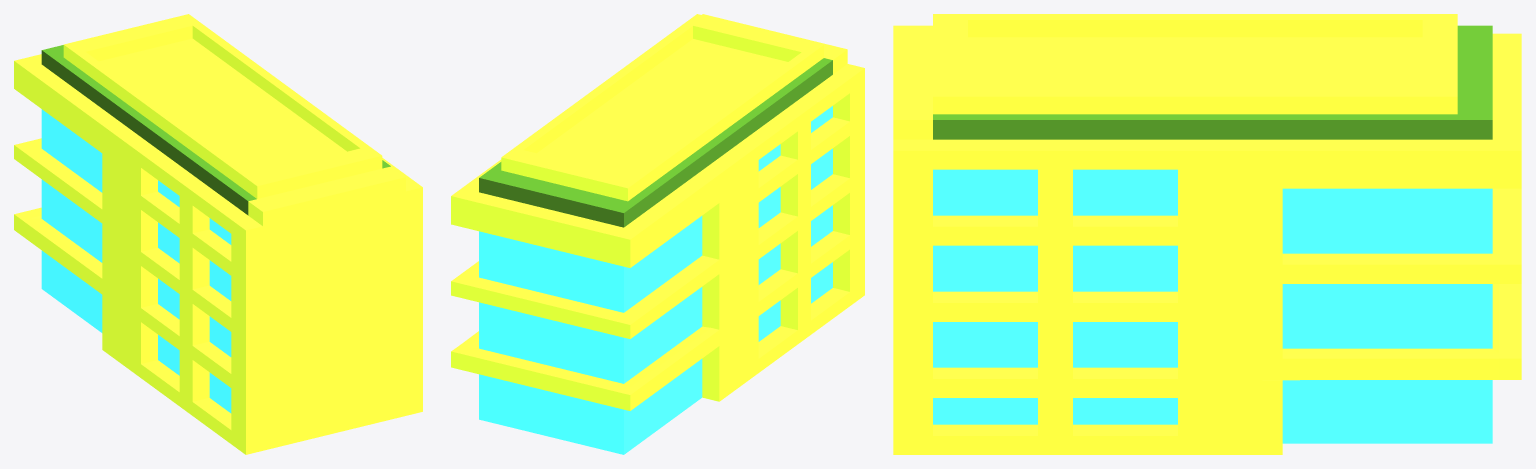
File: Apartment3.fbx
3 renders of one model, left to right at view 1: azimuth 30°, elevation 25°; view 2: azimuth 150°, elevation 25°; view 3: azimuth 270°, elevation 25°, orthographic. The views are drawn at different scales.
Visible parts, largest first — view 1: Cube, Window003, Border001, Window002; view 2: Cube, Window003, Border001, Window002; view 3: Cube, Window003, Window001, Border001.
Part boxes in pixels (x1,y1,x2,y2): Cube: (14,14,422,454); Window003: (41,109,102,332); Border001: (41,45,390,215); Window002: (158,180,231,413); Cube: (451,14,864,410); Window003: (479,216,702,454); Border001: (479,58,832,227); Window002: (758,106,832,341); Cube: (893,14,1521,454); Window003: (1282,188,1492,443); Window001: (933,169,1177,424); Border001: (933,25,1492,139).
Size of the model in its own units: 495 by 673 by 1123.
